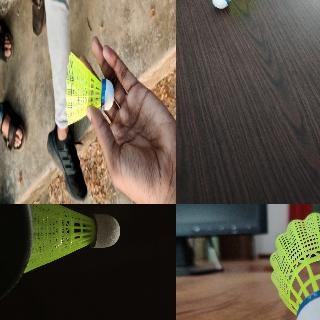shuttlecock: (27, 204, 120, 272), (269, 212, 319, 319), (64, 50, 114, 126), (211, 0, 258, 10)
